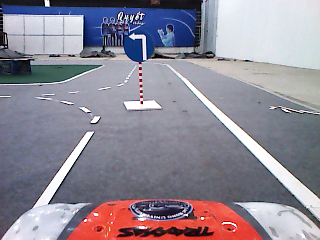turn: (123, 30, 156, 65)
